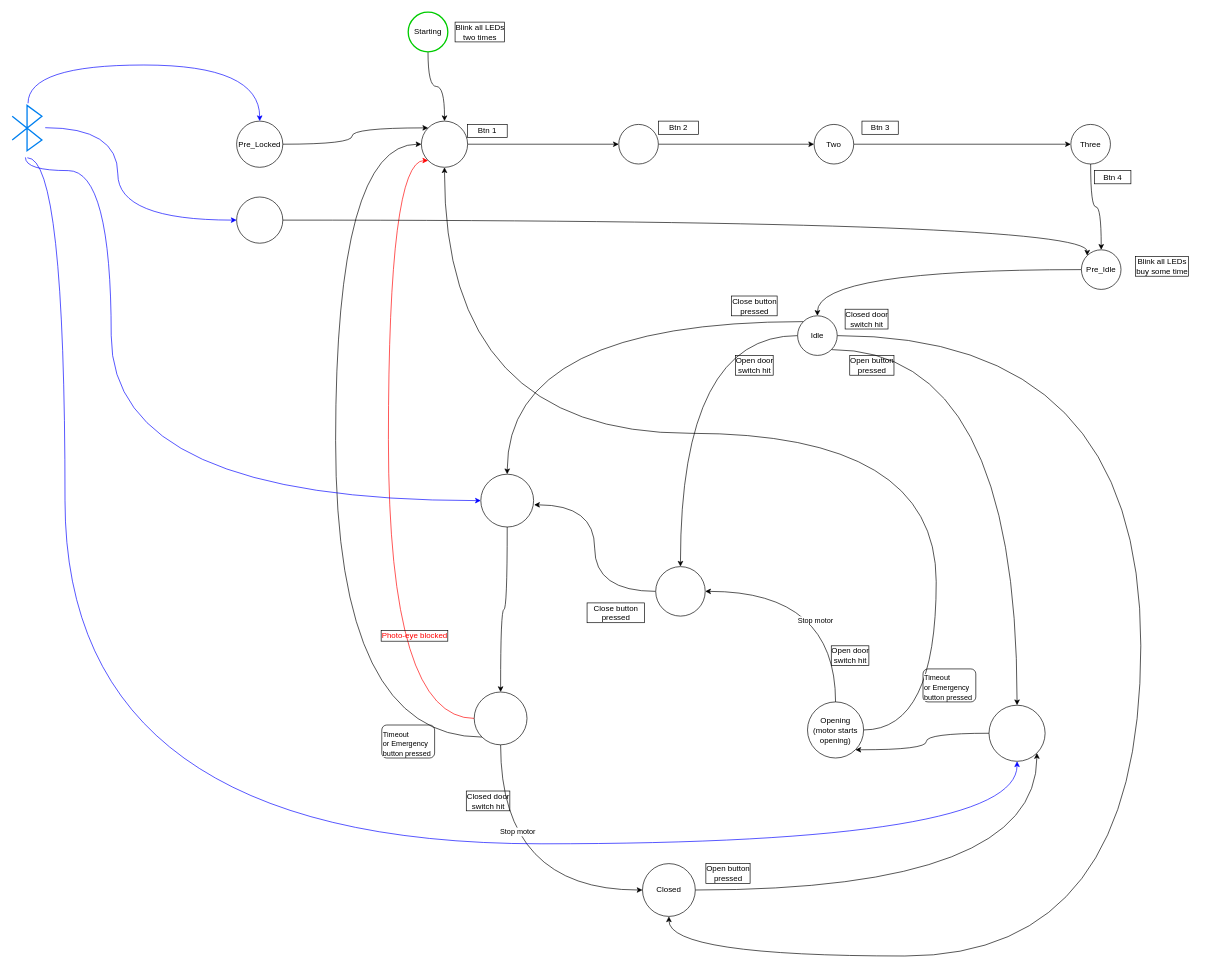
Some shapes in this 1205 by 968 pixel diagram are drawn without their labels. The shapes that lost their labels are listed below. From the top down, each one's centre as x and y in pixels, then its label:
At (444,143): "Locked".
At (638,144): "One".
At (259,219): "Get_Status".
At (507,500): "Pre_Closing".
At (680,591): "Open".
At (500,718): "Closing (motor starts closing)".
At (1016,733): "Pre_Opening".
